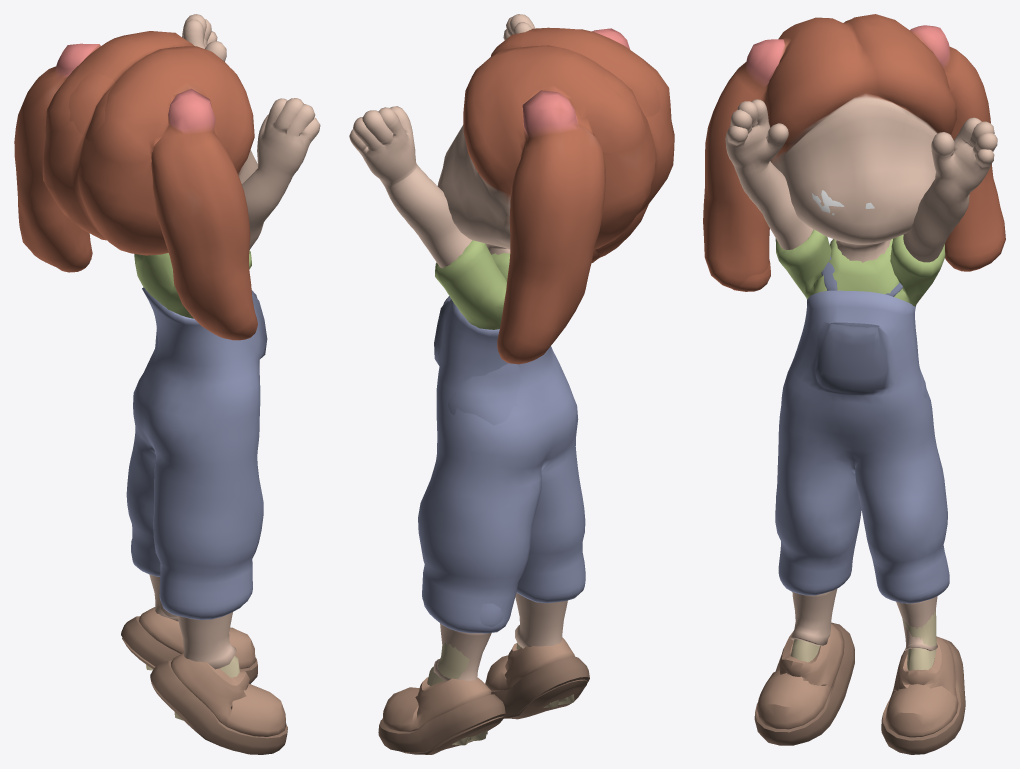
3 renders of one model, left to right at view 1: azimuth 30°, elevation 25°; view 2: azimuth 150°, elevation 25°; view 3: azimuth 270°, elevation 25°, orthographic. The views are drawn at different scales.
Parts seen in each view (by area): view 1: Arms.117; view 2: Arms.117; view 3: Arms.117.
Part boxes in pixels (x1,y1,x2,y2): Arms.117: (14,14,320,754); Arms.117: (349,14,674,754); Arms.117: (703,14,1005,754).
Bounding box in the file's own units: 59.16 × 170 × 68.84.
